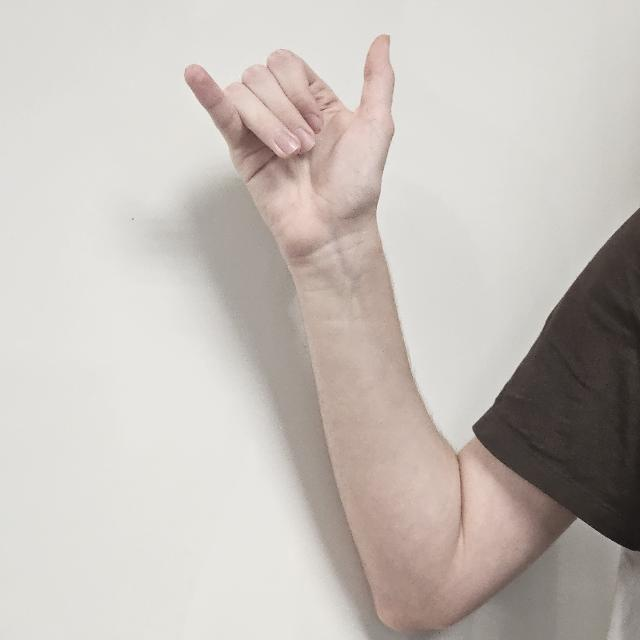Direita: (176, 30, 400, 230)
